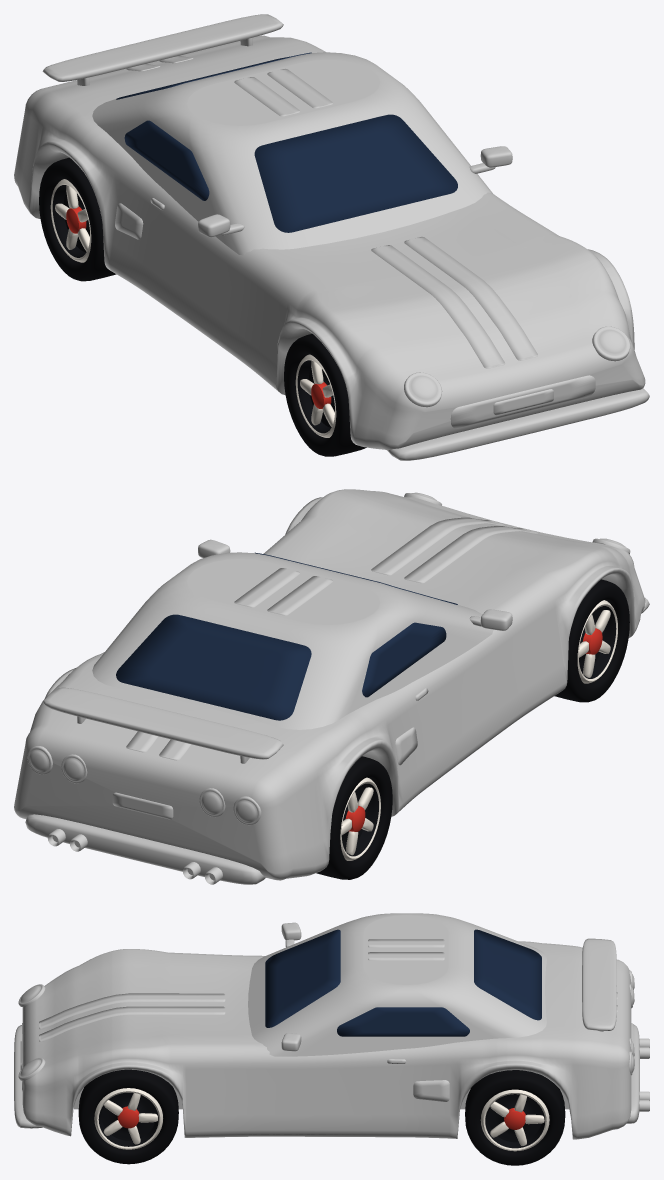
File: sports-car.obj
3 views of the same model, one above another, from view 1: azimuth 30°, elevation 25°; view 2: azimuth 150°, elevation 25°; view 3: azimuth 270°, elevation 25° (orthographic). The views are drawn at different scales.
Parts seen in each view (by area): view 1: sports-car_body, sports-car_windows, sports-car_wheel_fr, sports-car_wheel_rr; view 2: sports-car_body, sports-car_windows, sports-car_wheel_rr, sports-car_wheel_fr; view 3: sports-car_body, sports-car_windows, sports-car_wheel_rl, sports-car_wheel_fl.
Part boxes in pixels (left/top/right/bottom): sports-car_body: left=14, top=14, right=649, bottom=460; sports-car_windows: left=116, top=52, right=457, bottom=232; sports-car_wheel_fr: left=284, top=333, right=366, bottom=456; sports-car_wheel_rr: left=39, top=157, right=116, bottom=281; sports-car_body: left=14, top=489, right=649, bottom=884; sports-car_windows: left=116, top=552, right=457, bottom=720; sports-car_wheel_rr: left=316, top=756, right=392, bottom=879; sports-car_wheel_fr: left=554, top=579, right=629, bottom=702; sports-car_body: left=14, top=913, right=649, bottom=1139; sports-car_windows: left=265, top=929, right=541, bottom=1036; sports-car_wheel_rl: left=465, top=1070, right=565, bottom=1165; sports-car_wheel_fl: left=78, top=1069, right=178, bottom=1164.
Bounding box in the file's own units: 1.97 × 1.22 × 4.38.
